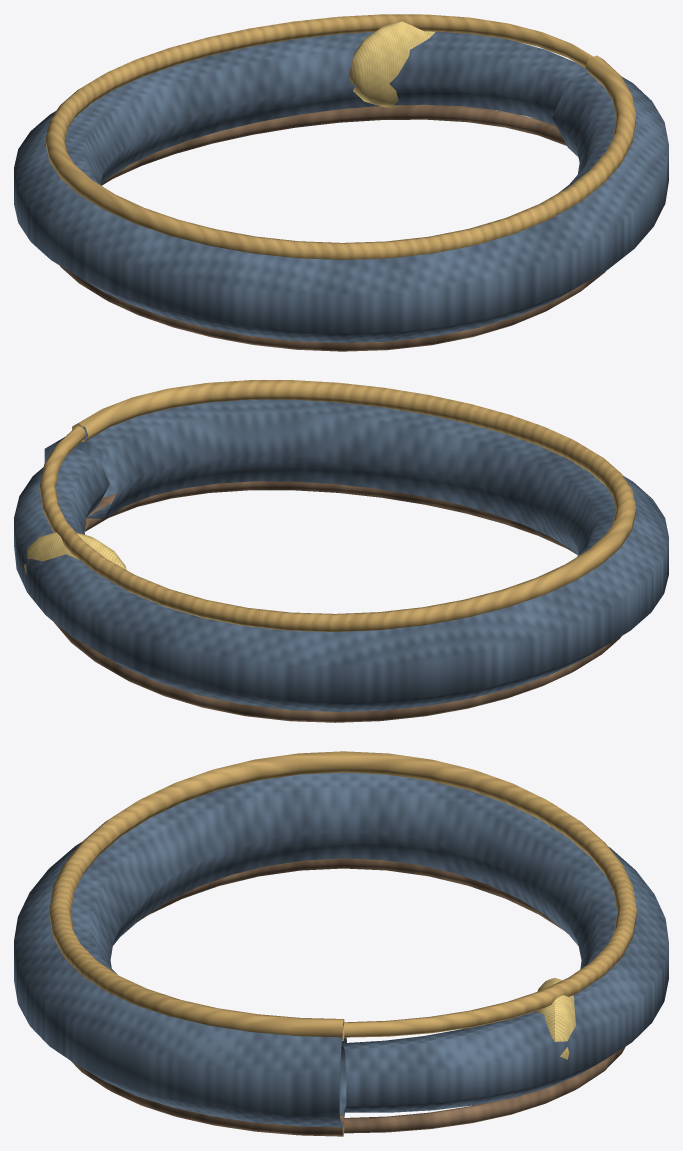
The model's file is acc_sailor_headband.glb.
3 views of the same model, one above another, from view 1: azimuth 30°, elevation 25°; view 2: azimuth 150°, elevation 25°; view 3: azimuth 270°, elevation 25° (orthographic). The views are drawn at different scales.
Visible parts, largest first — view 1: acc_sailor_headband; view 2: acc_sailor_headband; view 3: acc_sailor_headband.
Part boxes in pixels (box(x1,y1,x2,y2)): acc_sailor_headband: box(14, 14, 668, 351); acc_sailor_headband: box(14, 380, 668, 722); acc_sailor_headband: box(14, 751, 668, 1136).
Size of the model in its own units: 1.1 by 0.2211 by 0.9921.
4 materials, 4 textured.
